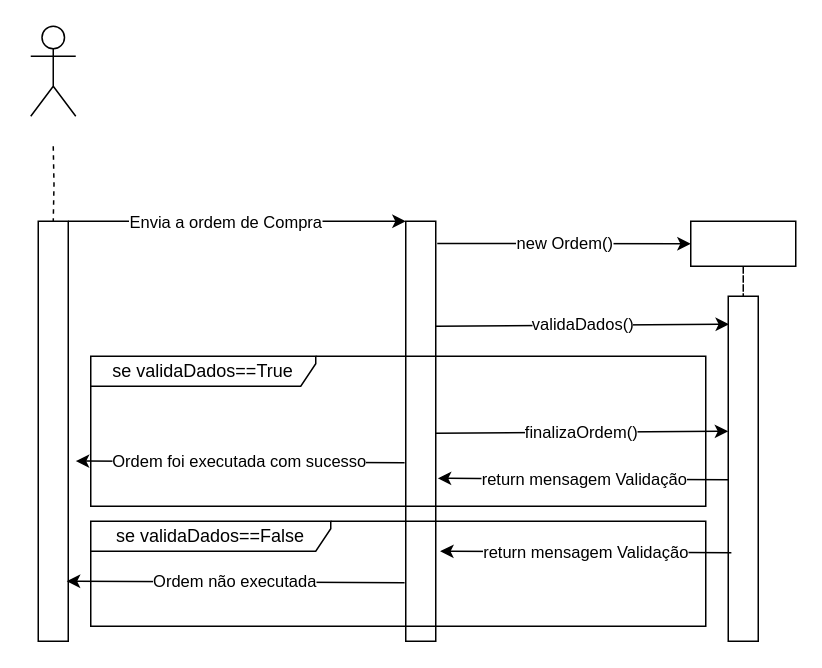
Some shapes in this 822 by 668 pixel diagram are drawn without their labels. The shapes that lost their labels are listed below. From the top down, each one's centre as x and y in pixels, then its label:
At (x=52, y=70): "Market".
At (x=742, y=243): "Ordem".
